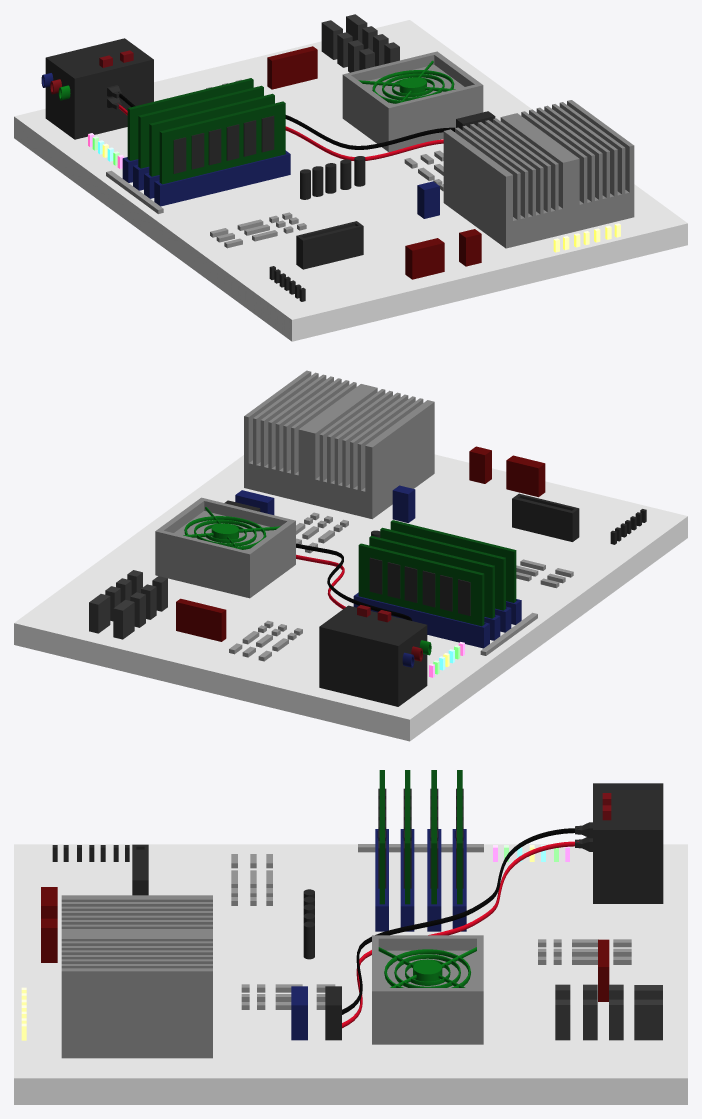
File: 20_PC_Board.glb
3 renders of one model, top to bottom at view 1: azimuth 30°, elevation 25°; view 2: azimuth 150°, elevation 25°; view 3: azimuth 270°, elevation 25°, orthographic. The views are drawn at different scales.
Visible parts, largest first — view 1: Cube118_2, Cube118_7, Cube118_1, Cube118_6, Cube118_4, Cube118_8, Cube118_9, Cube118_12, Cube118, Cube118_3, Cube118_16, Cube118_15 (+1 smaller); view 2: Cube118_2, Cube118_7, Cube118_1, Cube118_6, Cube118_4, Cube118_8, Cube118_9, Cube118_12, Cube118_3, Cube118_16, Cube118; view 3: Cube118_2, Cube118_7, Cube118_1, Cube118_4, Cube118_12, Cube118_9, Cube118_6, Cube118_3, Cube118_8, Cube118_16, Cube118, Cube118_15.
Part boxes in pixels (x1,y1,x2,y2): Cube118_2: [14, 20, 687, 341]; Cube118_7: [342, 51, 634, 248]; Cube118_1: [45, 38, 495, 269]; Cube118_6: [127, 78, 285, 184]; Cube118_4: [41, 73, 439, 218]; Cube118_8: [267, 46, 481, 279]; Cube118_9: [321, 14, 399, 72]; Cube118_12: [106, 79, 443, 248]; Cube118: [269, 156, 365, 301]; Cube118_3: [58, 60, 455, 103]; Cube118_16: [118, 92, 454, 149]; Cube118_15: [118, 104, 443, 160]; Cube118_2: [14, 454, 687, 741]; Cube118_7: [155, 370, 434, 598]; Cube118_1: [224, 493, 579, 706]; Cube118_6: [358, 520, 516, 626]; Cube118_4: [235, 485, 521, 667]; Cube118_8: [176, 446, 545, 641]; Cube118_9: [89, 570, 167, 639]; Cube118_12: [229, 512, 573, 661]; Cube118_3: [183, 507, 431, 655]; Cube118_16: [296, 543, 412, 620]; Cube118: [371, 509, 646, 544]; Cube118_2: [14, 844, 687, 1104]; Cube118_7: [61, 895, 483, 1058]; Cube118_1: [132, 783, 663, 1040]; Cube118_4: [291, 829, 466, 1040]; Cube118_12: [231, 844, 631, 1009]; Cube118_9: [555, 984, 662, 1040]; Cube118_6: [379, 770, 462, 904]; Cube118_3: [378, 947, 476, 987]; Cube118_8: [41, 887, 609, 1001]; Cube118_16: [342, 828, 578, 1014]; Cube118: [52, 845, 314, 959]; Cube118_15: [342, 841, 578, 1028].
Bounding box in the file's own units: 1.25 × 0.2919 × 1.52.
